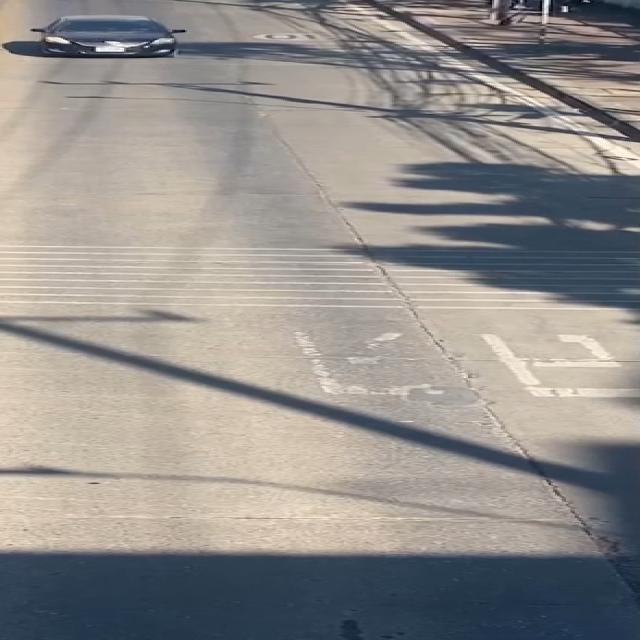car: (10, 12, 208, 62)
